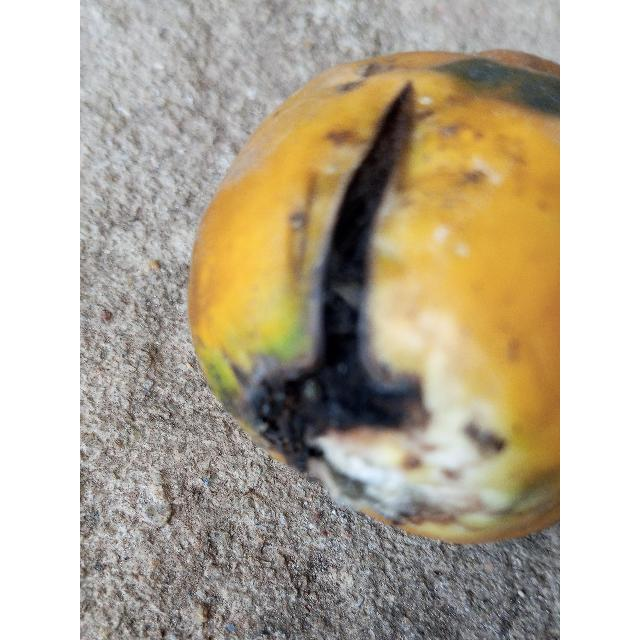damaged: (187, 51, 560, 547)
